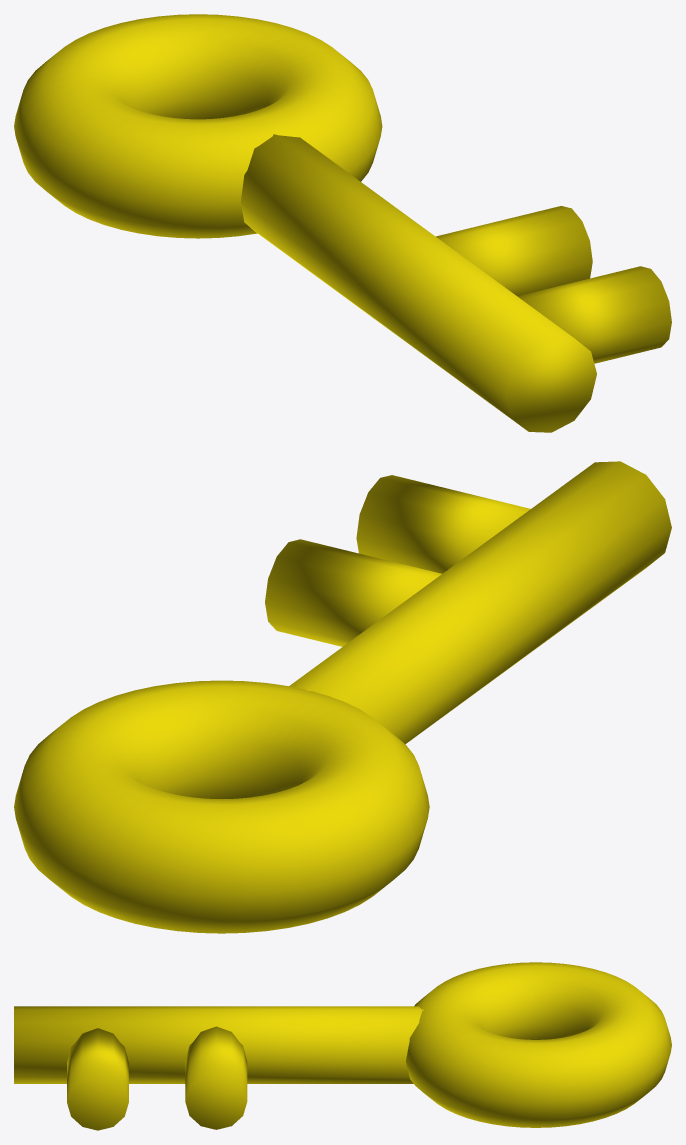
Rendered from key.fbx.
The picture shows the model from 3 angles, top to bottom: view 1: azimuth 30°, elevation 25°; view 2: azimuth 150°, elevation 25°; view 3: azimuth 270°, elevation 25°; orthographic projection. The views are drawn at different scales.
Visible parts, largest first — view 1: トーラス.001, 円柱, 円柱.002, 円柱.001; view 2: トーラス.001, 円柱, 円柱.001, 円柱.002; view 3: トーラス.001, 円柱, 円柱.001, 円柱.002.
Boxes of the visible parts, left/top/right/bottom form: トーラス.001: left=14, top=14, right=382, bottom=238; 円柱: left=240, top=134, right=596, bottom=432; 円柱.002: left=517, top=266, right=671, bottom=363; 円柱.001: left=436, top=206, right=592, bottom=296; トーラス.001: left=14, top=680, right=429, bottom=933; 円柱: left=289, top=461, right=671, bottom=743; 円柱.001: left=265, top=539, right=441, bottom=646; 円柱.002: left=356, top=475, right=530, bottom=573; トーラス.001: left=406, top=962, right=671, bottom=1127; 円柱: left=14, top=1006, right=423, bottom=1083; 円柱.001: left=185, top=1026, right=247, bottom=1129; 円柱.002: left=67, top=1028, right=128, bottom=1130.
Bounding box in the file's own units: 154 × 50 × 372.
